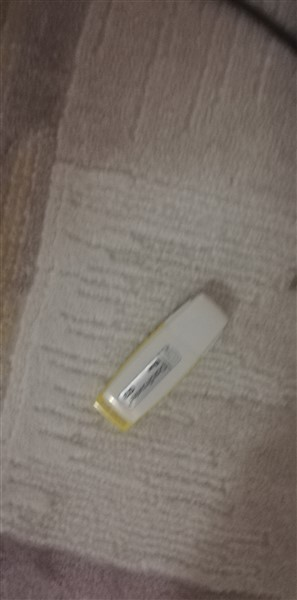flash disk: (89, 284, 241, 438)
